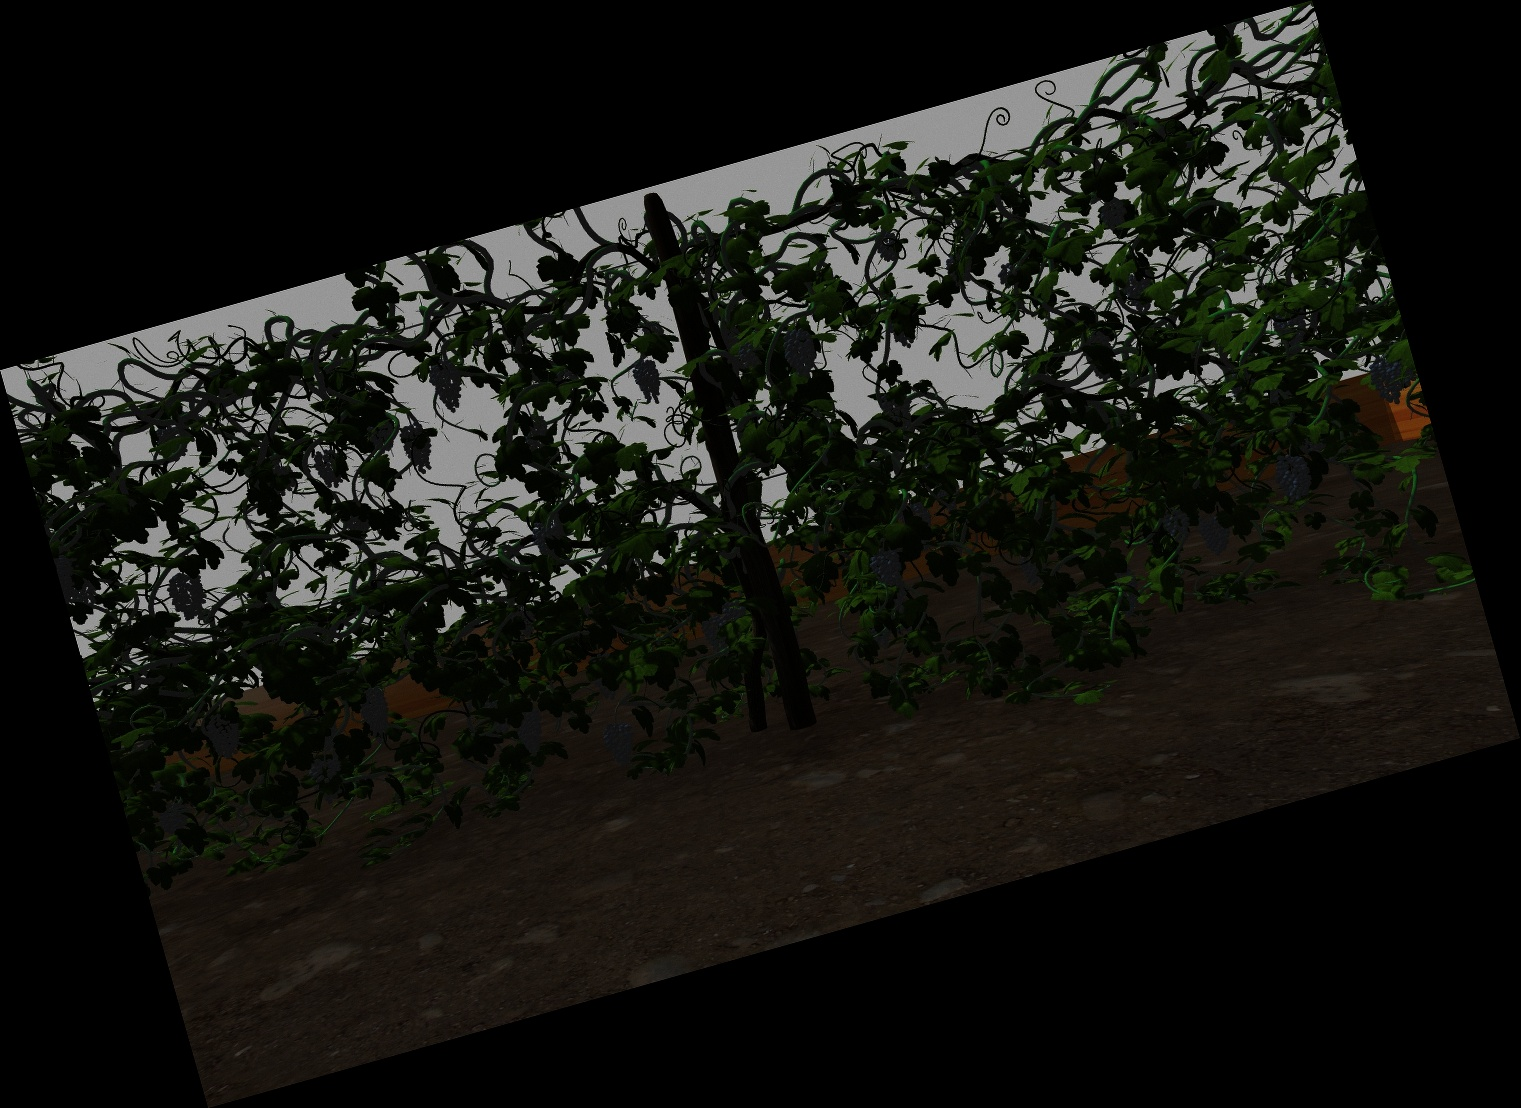grape: (875, 548, 907, 611), (168, 574, 207, 620), (1274, 452, 1312, 500), (535, 513, 568, 566), (403, 422, 435, 475), (1370, 357, 1406, 403), (207, 710, 241, 758), (432, 360, 463, 413), (360, 685, 391, 738), (785, 327, 817, 378), (63, 555, 93, 606), (313, 758, 344, 803), (517, 709, 546, 757), (607, 721, 637, 767), (1200, 514, 1232, 555), (635, 358, 662, 406), (155, 797, 192, 832), (1274, 309, 1308, 344), (315, 449, 342, 488), (1163, 507, 1190, 543), (368, 422, 397, 452), (701, 614, 725, 651), (1021, 550, 1047, 584), (1099, 197, 1127, 227), (737, 341, 762, 369), (877, 234, 902, 260), (719, 599, 743, 625)
